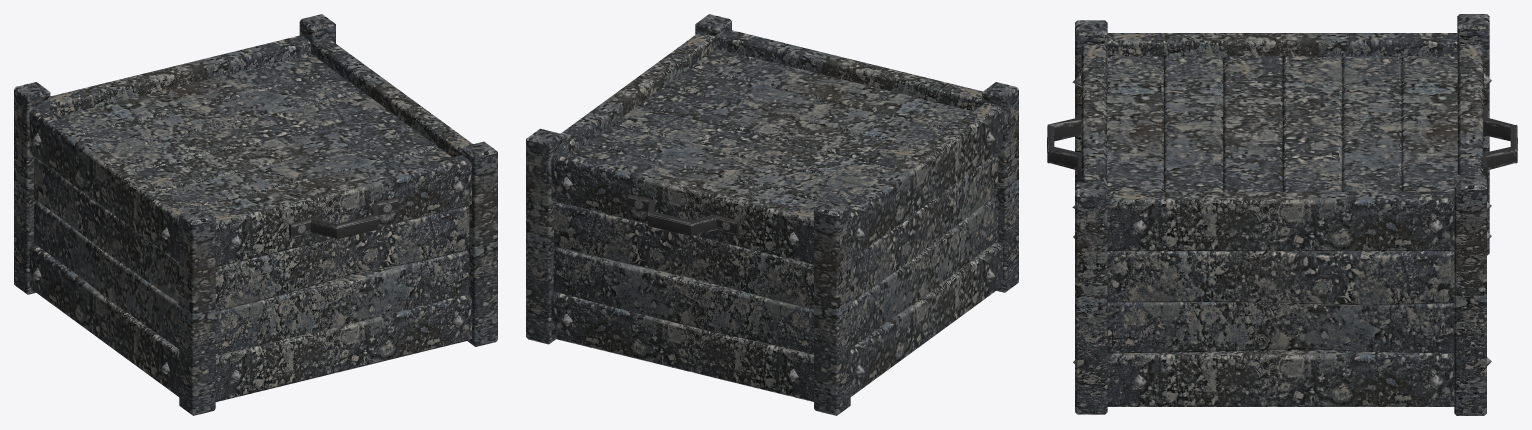
The picture shows the model from 3 angles, left to right: view 1: azimuth 30°, elevation 25°; view 2: azimuth 150°, elevation 25°; view 3: azimuth 270°, elevation 25°; orthographic projection. The views are drawn at different scales.
Visible parts, largest first — view 1: SM_box_02_LOD0; view 2: SM_box_02_LOD0; view 3: SM_box_02_LOD0.
Boxes of the visible parts, x1,y1,x2,y2 form: SM_box_02_LOD0: [14, 14, 497, 415]; SM_box_02_LOD0: [526, 14, 1018, 415]; SM_box_02_LOD0: [1047, 14, 1517, 415].
Size of the model in its own units: 215 by 241 by 130.
